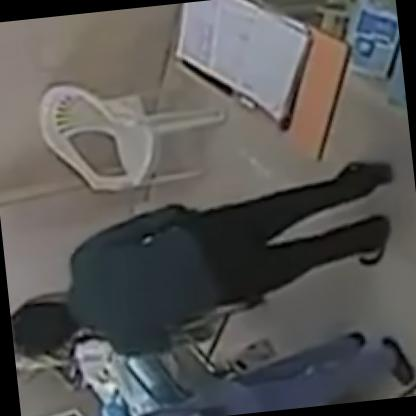Human Body: (0, 150, 415, 378)
